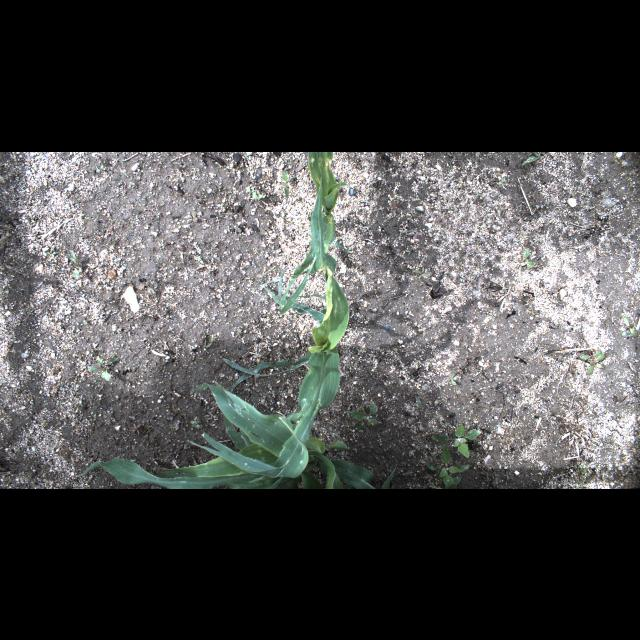crop: (186, 273, 352, 479), (76, 381, 396, 487), (276, 152, 346, 312)
weed: (425, 444, 469, 488), (433, 422, 481, 460), (347, 400, 379, 432), (86, 354, 120, 380), (582, 348, 606, 376), (622, 314, 638, 336), (282, 170, 290, 198), (522, 246, 532, 268), (522, 152, 540, 164), (414, 266, 430, 276), (190, 420, 200, 430), (450, 372, 456, 384), (498, 178, 506, 184), (98, 166, 102, 170)
